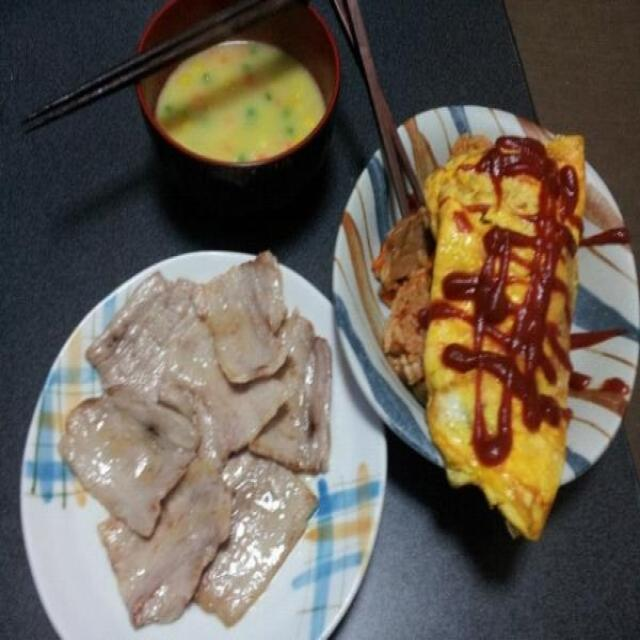汤锅炖物: (142, 0, 333, 175)
